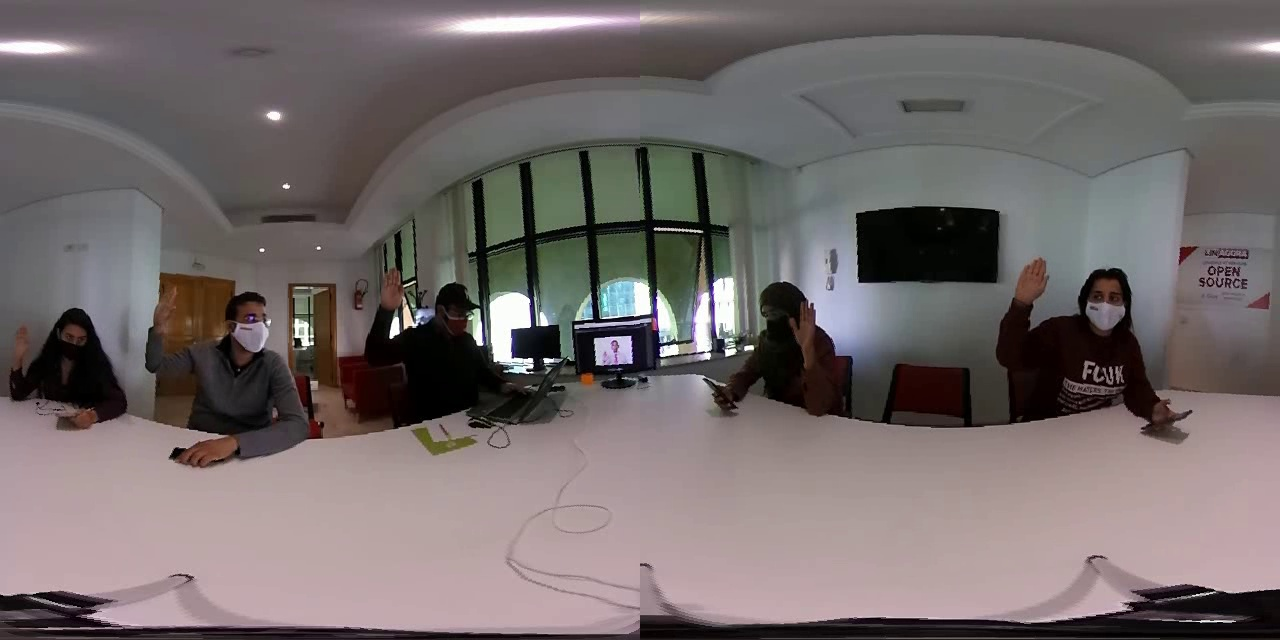person: (139, 271, 311, 453), (995, 245, 1159, 430), (702, 265, 853, 430), (351, 259, 497, 419), (3, 292, 127, 436)
voting: (1006, 245, 1055, 373), (143, 275, 190, 390), (789, 290, 832, 394), (376, 263, 408, 360), (4, 312, 33, 407)
